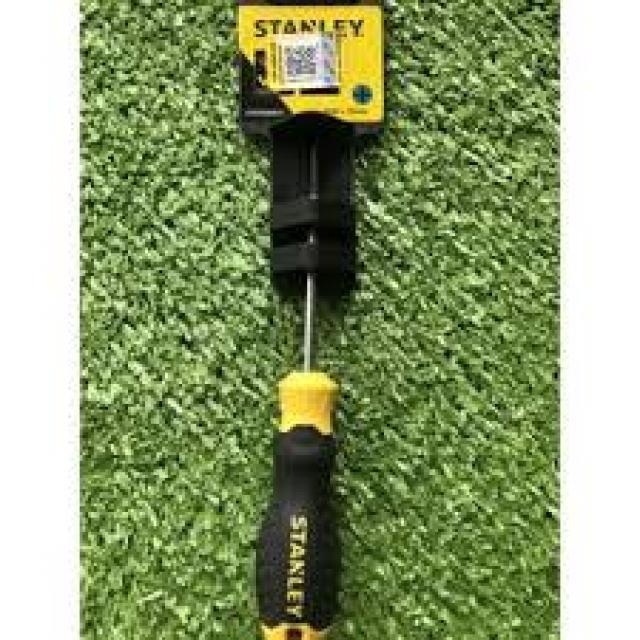screwdriver: (253, 125, 344, 640)
